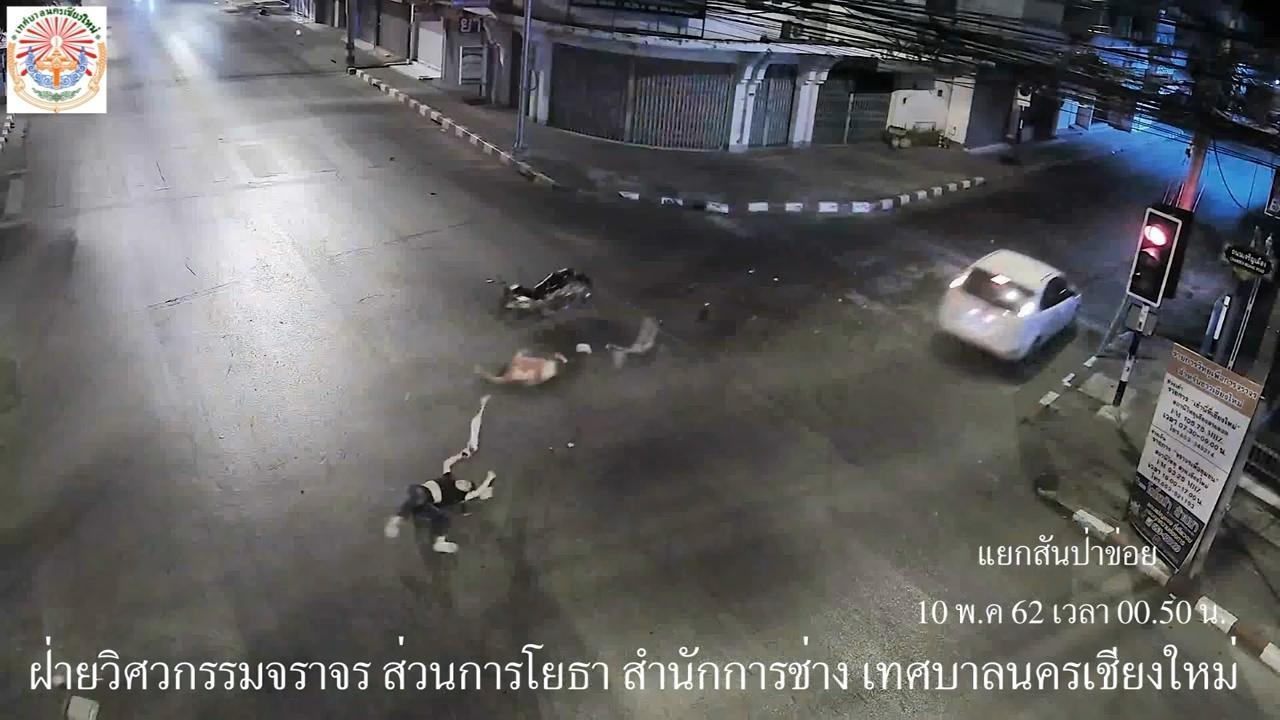accident: (383, 439, 485, 561), (475, 349, 580, 391)
